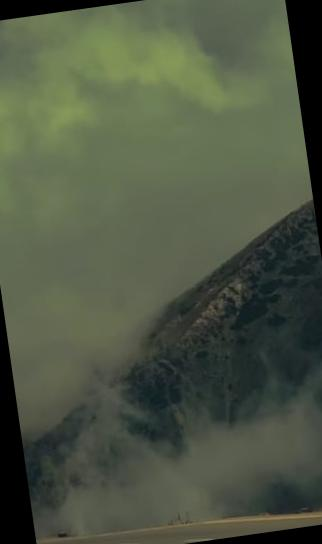left_turn: (28, 440, 322, 544)
